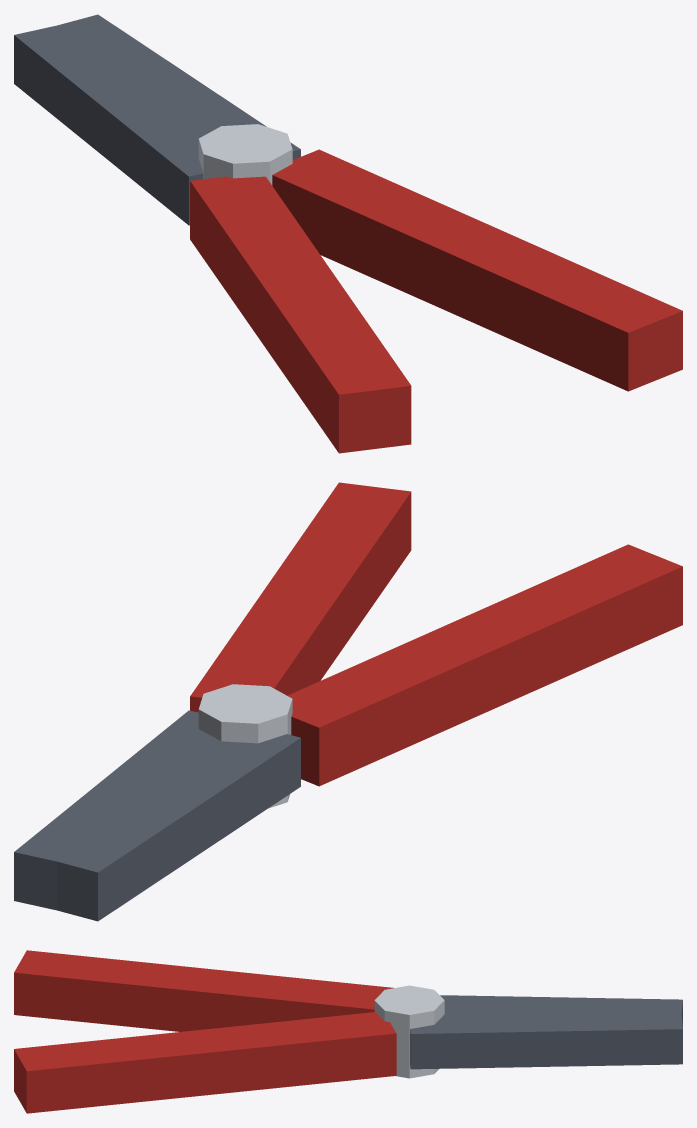
File: Pliers.fbx
3 renders of one model, top to bottom at view 1: azimuth 30°, elevation 25°; view 2: azimuth 150°, elevation 25°; view 3: azimuth 270°, elevation 25°, orthographic. The views are drawn at different scales.
Parts seen in each view (by area): view 1: Pliers; view 2: Pliers; view 3: Pliers.
Boxes of the visible parts, x1=… form: Pliers: x1=14, y1=14, x2=682, y2=453; Pliers: x1=14, y1=482, x2=682, y2=921; Pliers: x1=14, y1=950, x2=682, y2=1113.
Size of the model in its own units: 0.0736 by 0.018 by 0.1719.
1 material, 1 textured.
